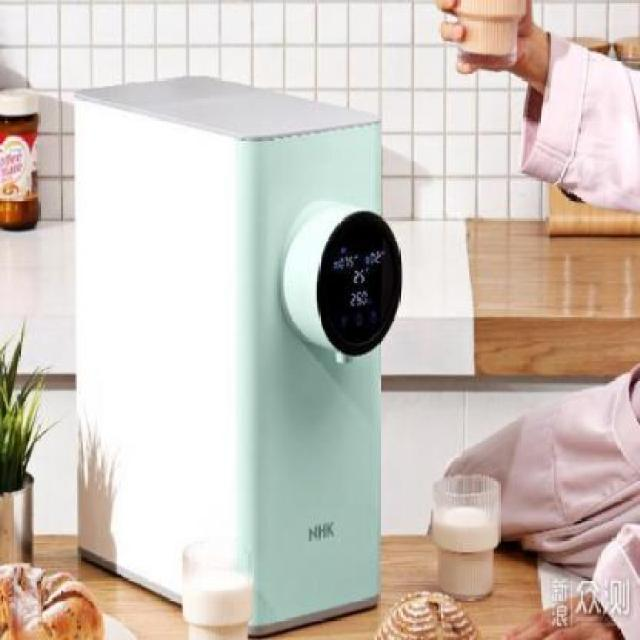cooler: (69, 67, 403, 640)
